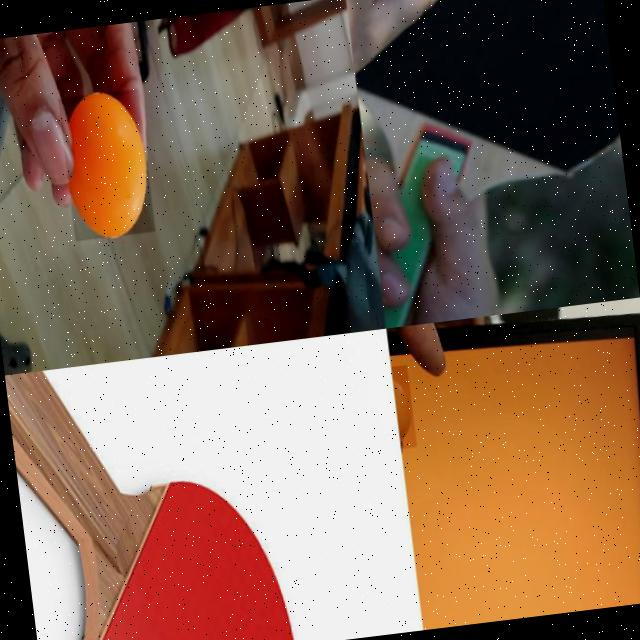ping-pong-ball: (56, 87, 156, 241)
